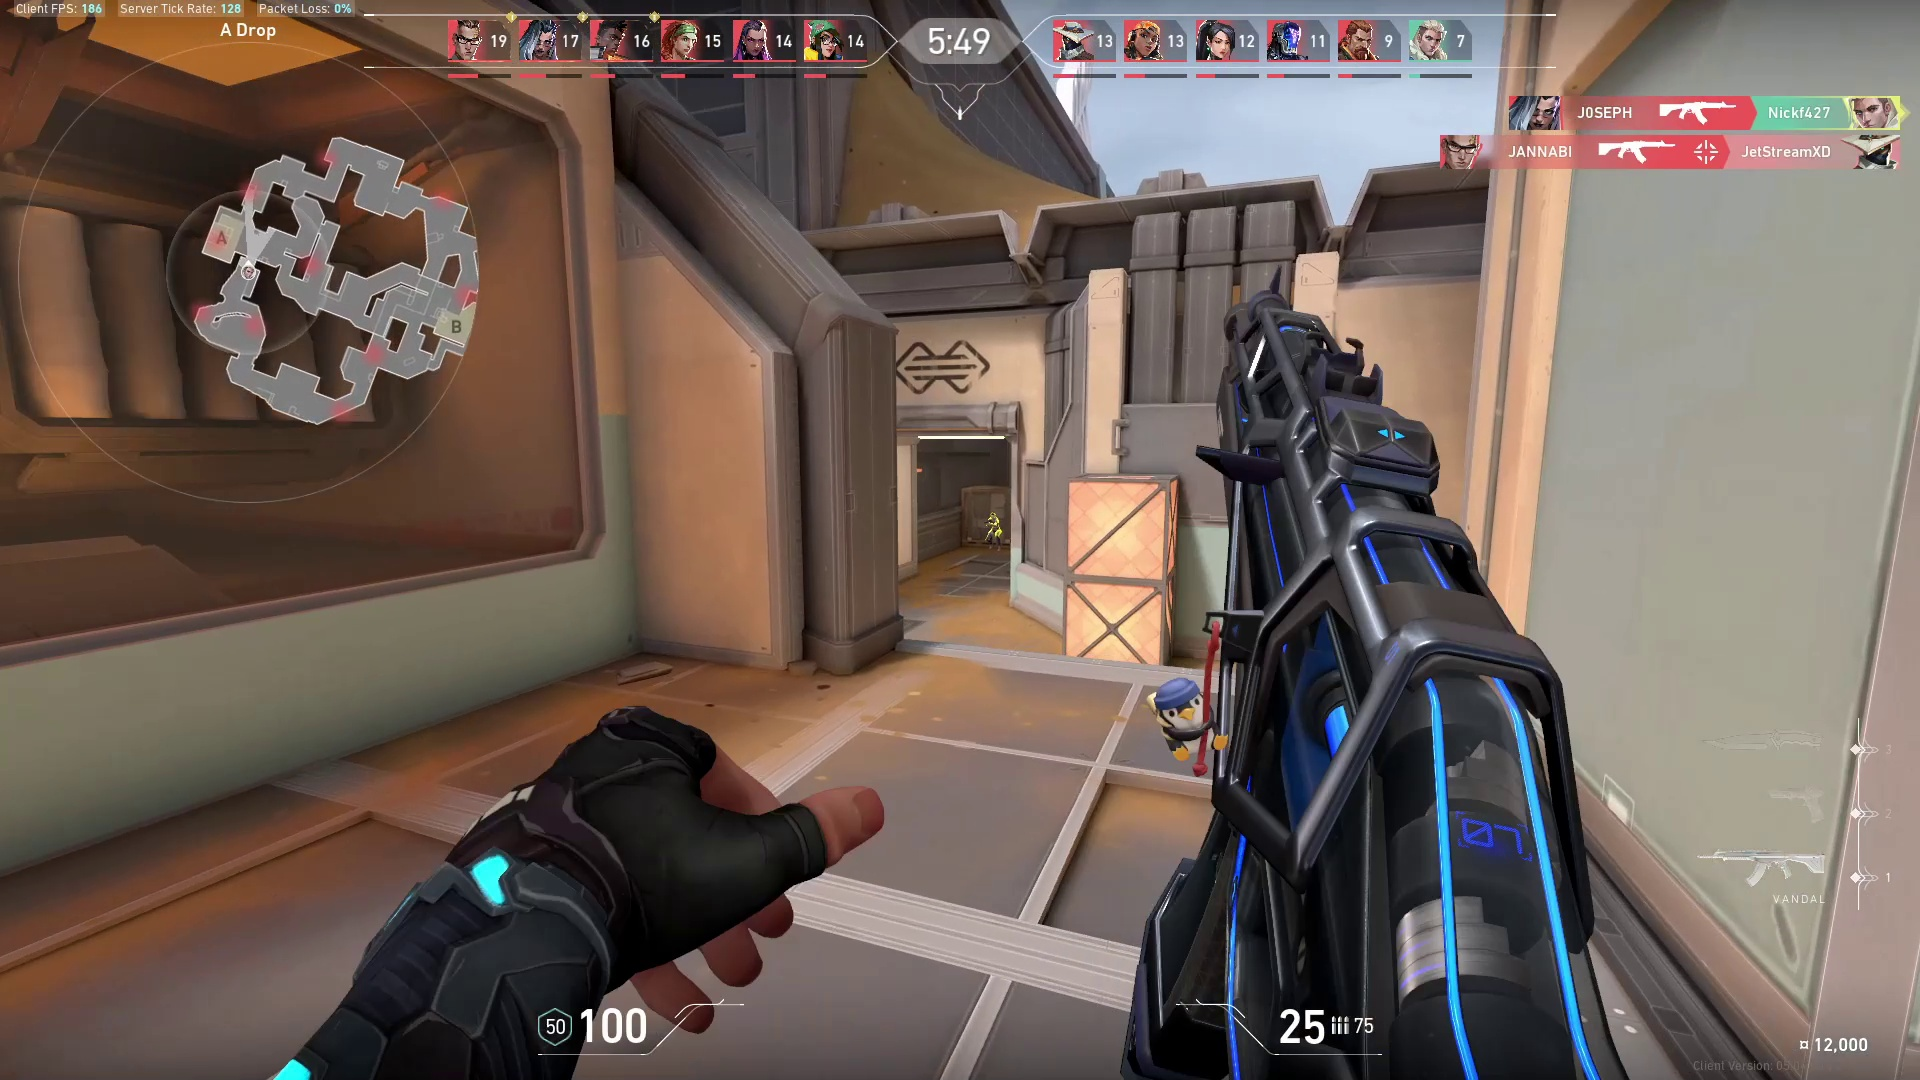enemy_body: (982, 520, 1006, 555)
enemy_head: (986, 510, 1000, 521)
